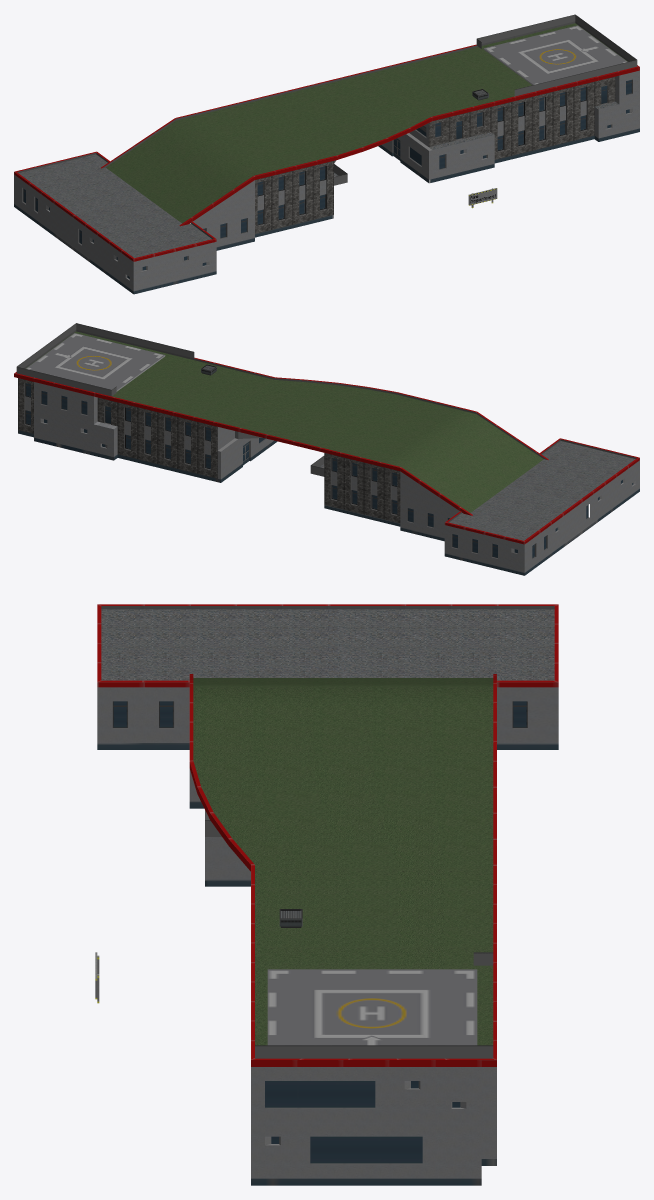
The model's file is fire station.fbx.
The picture shows the model from 3 angles, top to bottom: view 1: azimuth 30°, elevation 25°; view 2: azimuth 150°, elevation 25°; view 3: azimuth 270°, elevation 25°; orthographic projection. The views are drawn at different scales.
Visible parts, largest first — view 1: model_0; view 2: model_0; view 3: model_0.
Part boxes in pixels (box(x1,y1,x2,y2)): model_0: box(14, 14, 639, 294); model_0: box(14, 323, 639, 575); model_0: box(97, 604, 558, 1185).
Bounding box in the file's own units: 4215 × 531 × 1607.
Materials: 1 (1 with a texture image).
